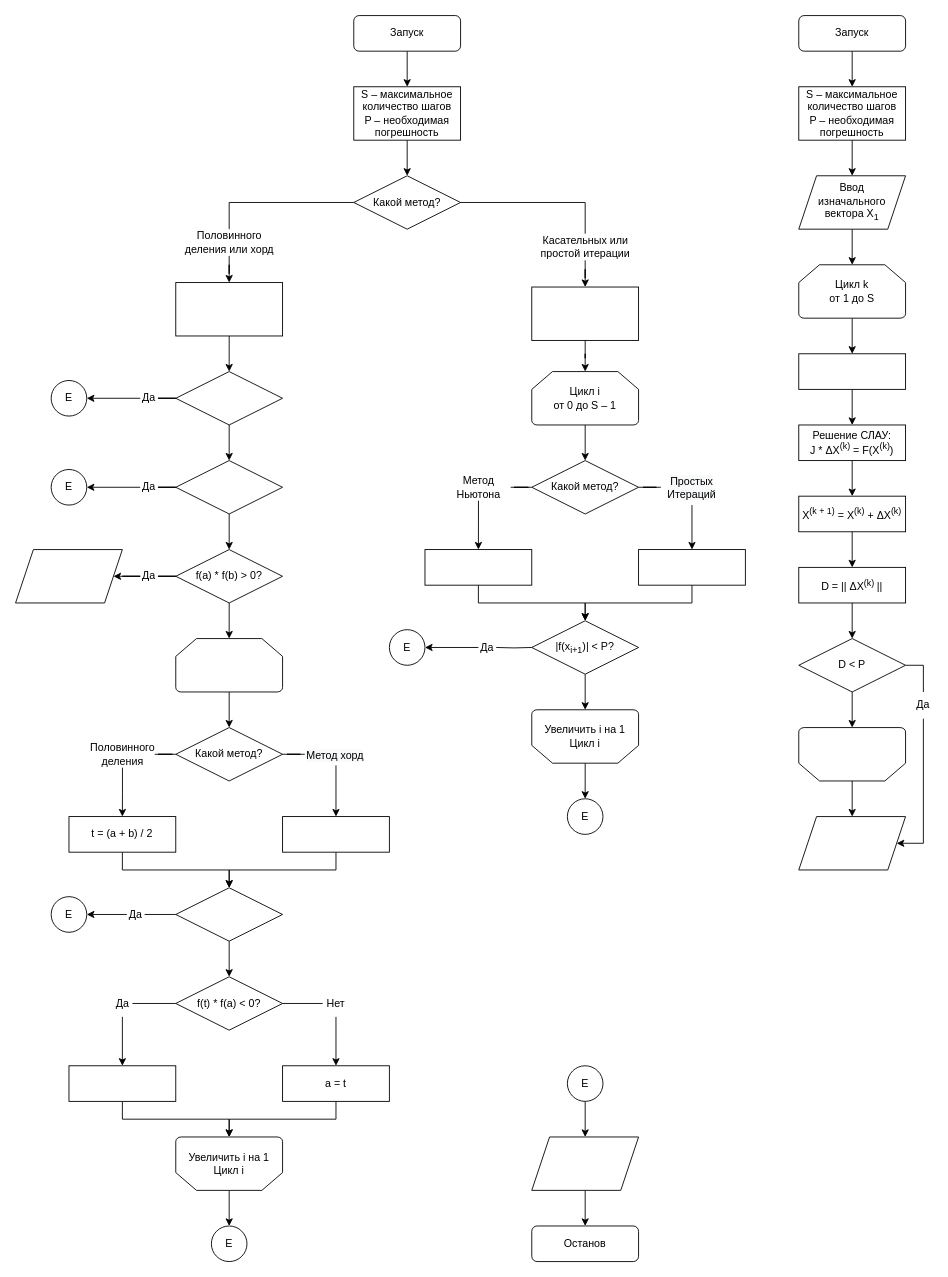
Some shapes in this 948 by 1277 pixel diagram are drawn without their labels. The centre of each missing label's shape, as x and y in pixels:
"a, b – заданные границы поиска" goes at point 229,309.
"b = t" goes at point 122,1083.
"f(a) = 0?" goes at point 229,398.
"f(b) = 0?" goes at point 229,487.
"t = a – (f(a) * (b – a)) / (f(b) – f(a))" goes at point 335,834.
"x 0 – начальное предположение значения x" goes at point 585,313.
"x i+1 = g(x i )" goes at point 691,567.
"x i+1 = x i – f(x i ) / f'(x i )" goes at point 478,567.
"|f(t)| < P?" goes at point 229,914.
"Вывод X (k)" goes at point 852,843.
"Вывод ошибки: корней на промежутке нет" goes at point 68,576.
"Вывод результата" goes at point 585,1163.
"Расчёт J" goes at point 852,371.
"Увеличить k на 1 Цикл k" goes at point 852,754.
"Цикл i от 1 до S" goes at point 229,665.
